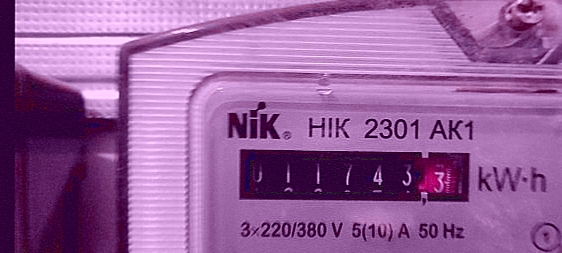0: (249, 156, 263, 184)
1: (310, 157, 322, 185), (281, 156, 291, 183)
3: (399, 160, 413, 187), (430, 169, 444, 194)
4: (369, 160, 383, 187)
7: (339, 157, 354, 185)
screen: (227, 137, 480, 212)
